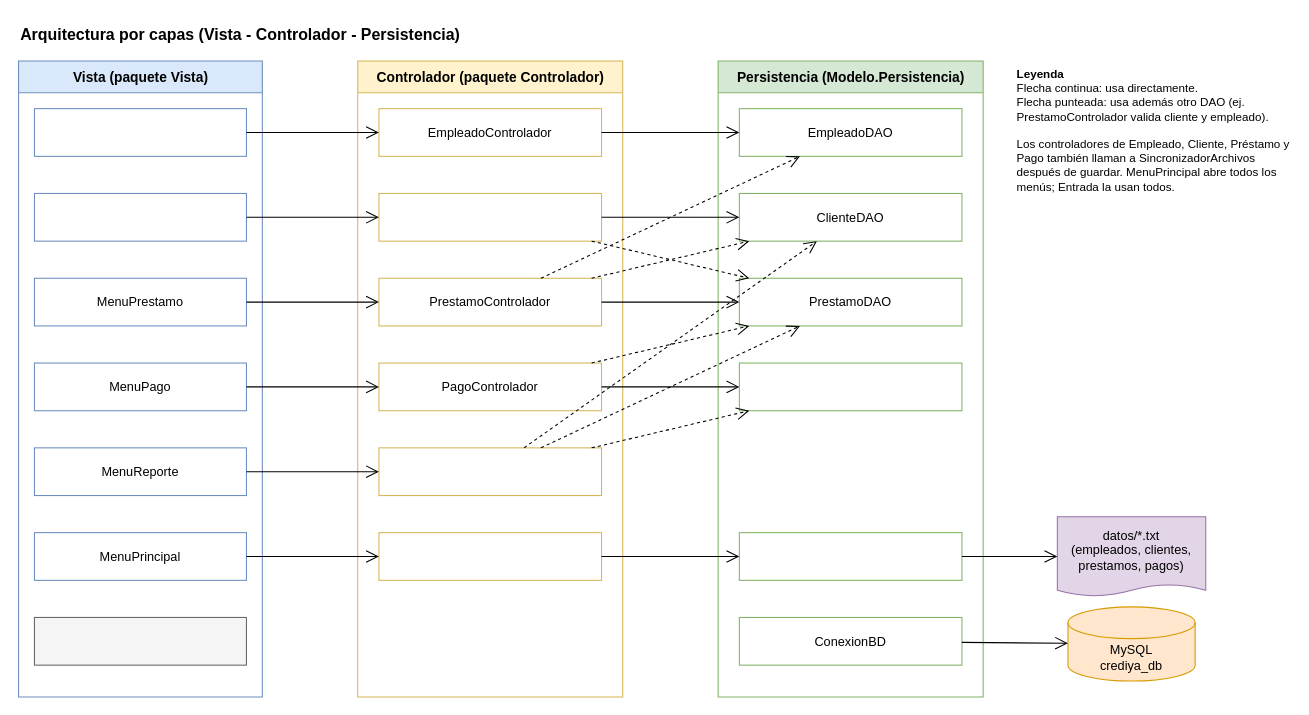
Some shapes in this 1309 by 715 pixel diagram are drawn without their labels. Here are the shapes that lost their labels. From the top down, the box of each, then its label:
(33, 108, 246, 156): MenuEmpleado
(33, 192, 246, 241): MenuCliente
(378, 192, 602, 241): ClienteControlador
(738, 362, 962, 411): PagoDAO
(378, 447, 602, 496): ReporteControlador
(378, 532, 602, 580): ArchivoControlador
(738, 532, 962, 580): SincronizadorArchivos
(33, 616, 246, 665): Entrada (Scanner compartido)
